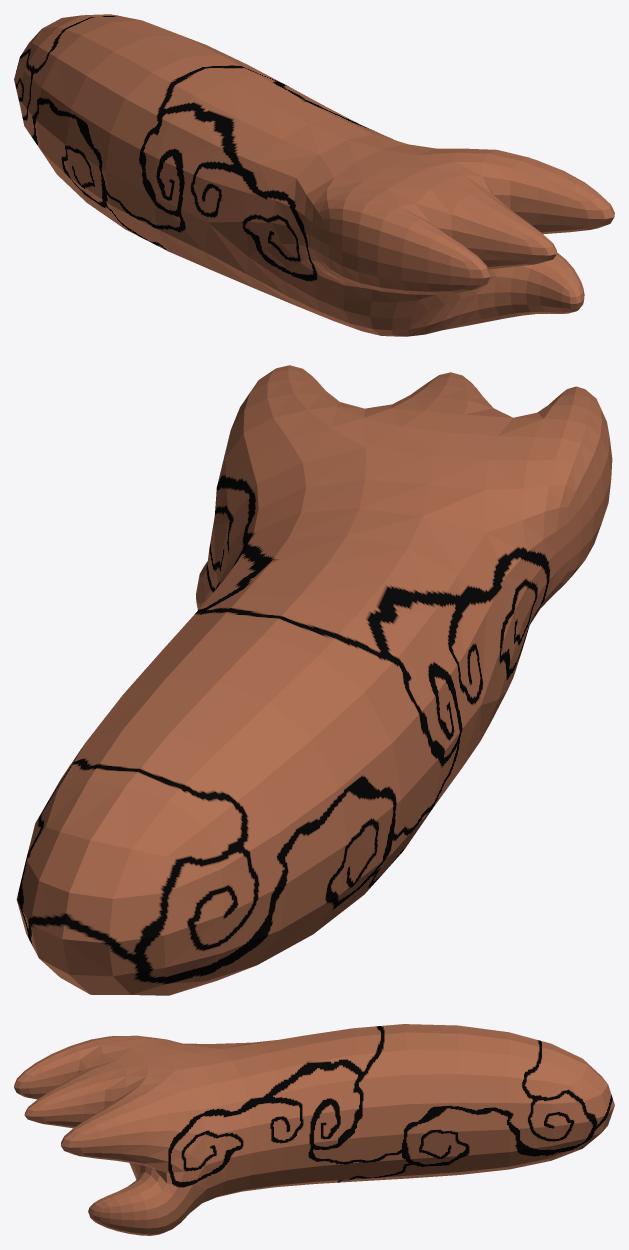
The model's file is brazoIzq.obj.
3 views of the same model, one above another, from view 1: azimuth 30°, elevation 25°; view 2: azimuth 150°, elevation 25°; view 3: azimuth 270°, elevation 25° (orthographic). The views are drawn at different scales.
Visible parts, largest first — view 1: Shukaku:Shukaku3; view 2: Shukaku:Shukaku3; view 3: Shukaku:Shukaku3.
Part boxes in pixels (<box>): Shukaku:Shukaku3: <box>14,14,614,336</box>; Shukaku:Shukaku3: <box>16,365,612,995</box>; Shukaku:Shukaku3: <box>14,1024,614,1235</box>.
Bounding box in the file's own units: 3.82 × 2.21 × 8.64.
